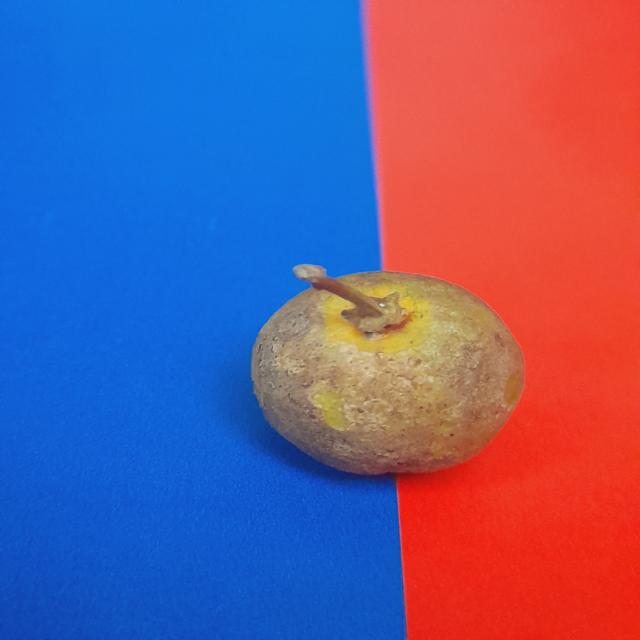thrips: (239, 266, 538, 492)
